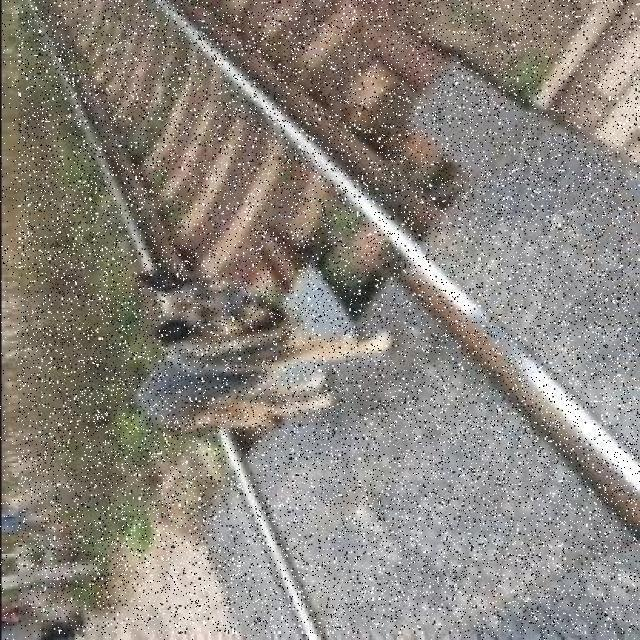rail: (19, 2, 639, 634)
